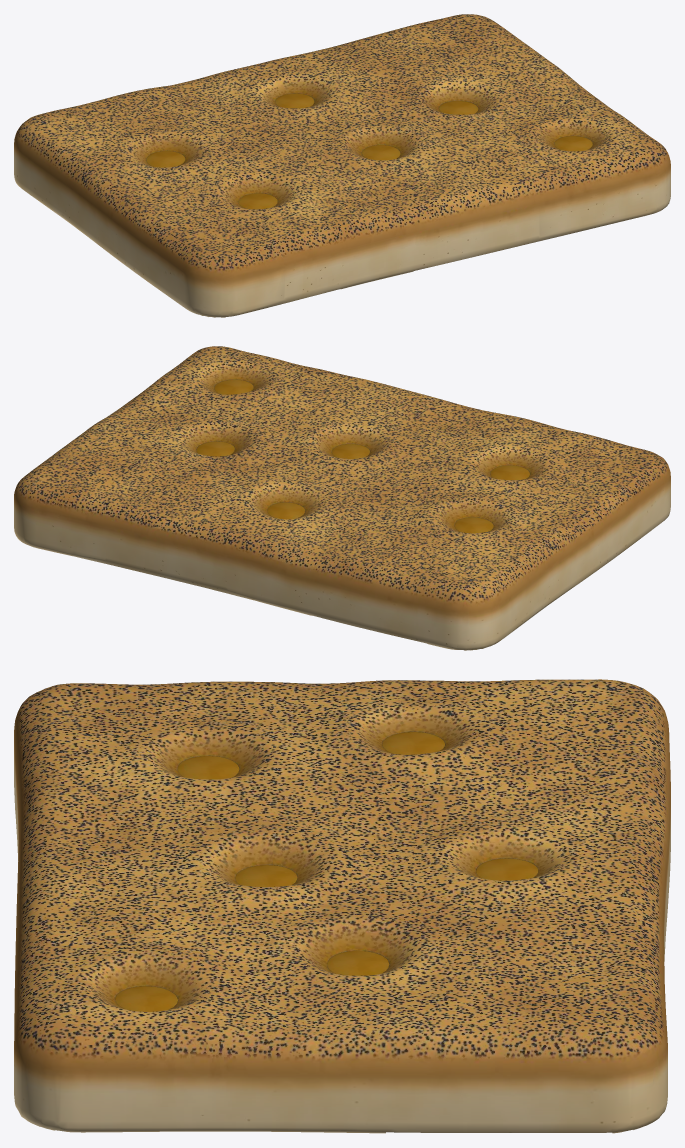
Rendered from focaccia--poppyseed-seed.glb.
3 views of the same model, one above another, from view 1: azimuth 30°, elevation 25°; view 2: azimuth 150°, elevation 25°; view 3: azimuth 270°, elevation 25° (orthographic). The views are drawn at different scales.
Parts seen in each view (by area): view 1: focaccia_poppyseed-seed; view 2: focaccia_poppyseed-seed; view 3: focaccia_poppyseed-seed.
Boxes of the visible parts, box(x1,y1,x2,y2) form: focaccia_poppyseed-seed: box(14, 14, 670, 317); focaccia_poppyseed-seed: box(14, 346, 670, 650); focaccia_poppyseed-seed: box(14, 679, 670, 1133).
Size of the model in its own units: 1.01 by 0.1293 by 0.7441.
Materials: 1 (1 with a texture image).
